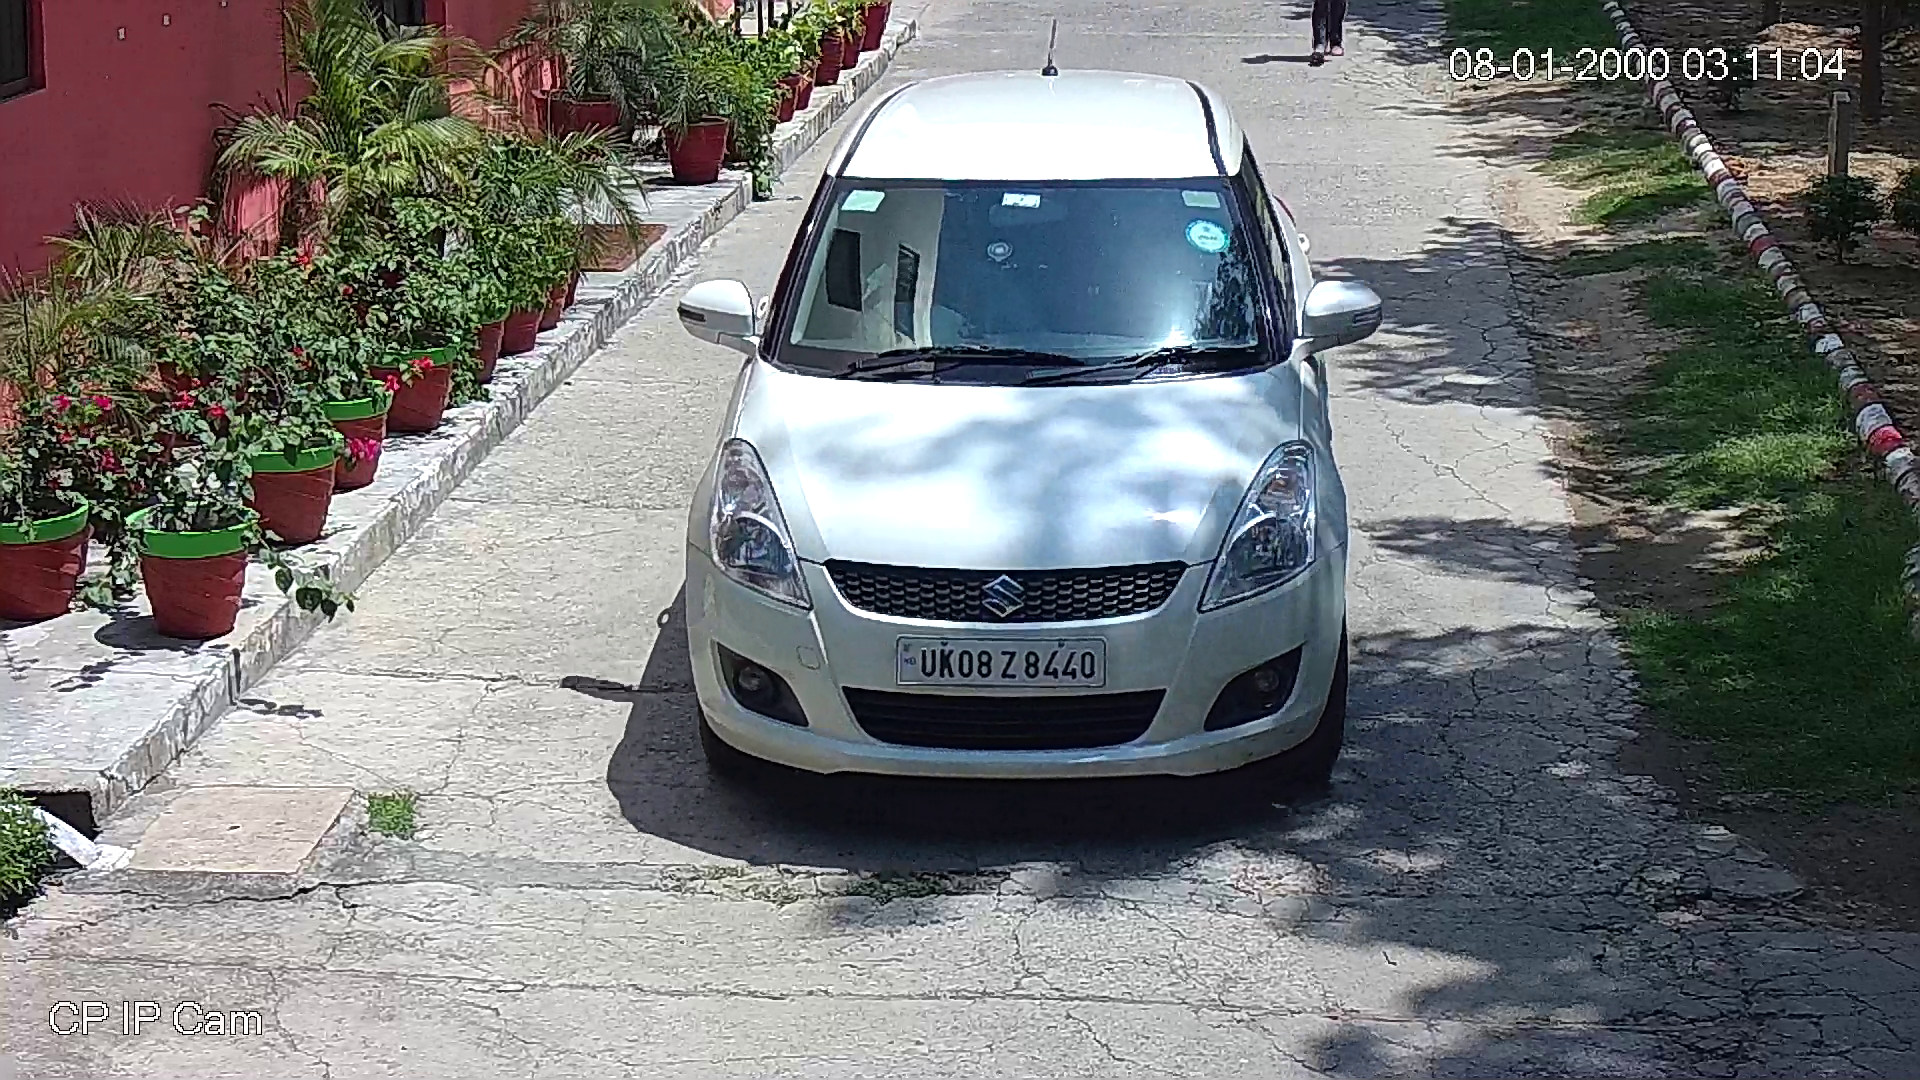plate: (885, 626, 1117, 701)
